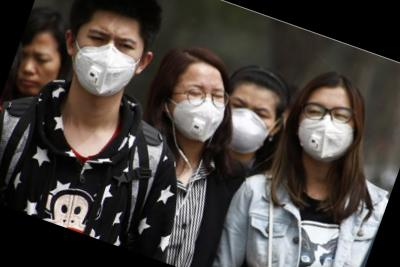with_mask: (60, 16, 150, 107), (288, 92, 366, 169), (159, 68, 235, 146), (212, 89, 283, 162)
without_mask: (6, 40, 65, 104)
